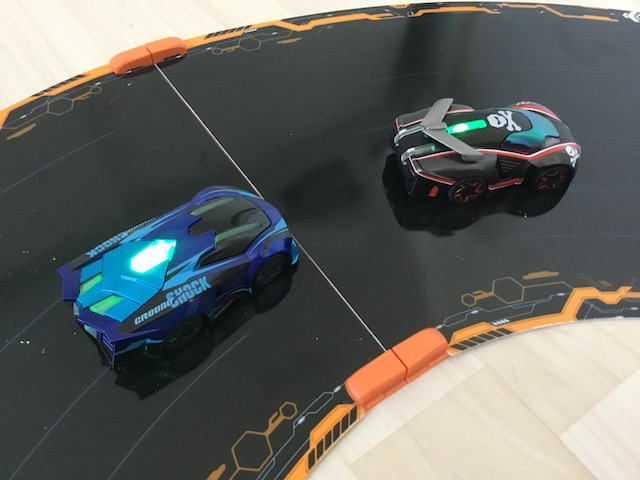car-blue: (51, 181, 304, 375)
car-red: (389, 94, 582, 212)
